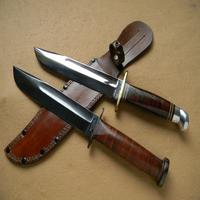knife: (7, 40, 184, 180)
